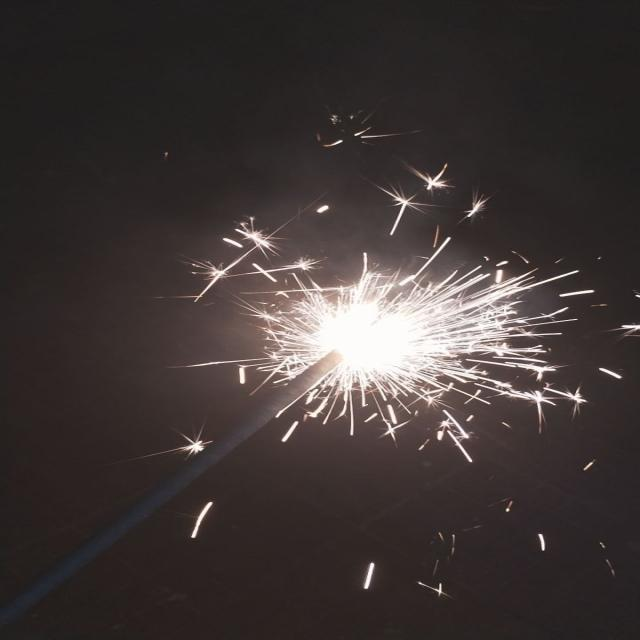fire: (314, 298, 430, 374)
